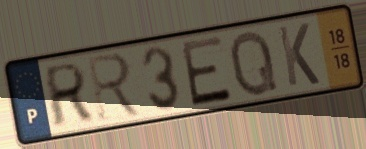3: (140, 44, 182, 115)
E: (178, 33, 235, 110)
K: (275, 20, 322, 89)
Q: (227, 27, 281, 99)
R: (84, 50, 145, 123), (43, 59, 94, 131)
